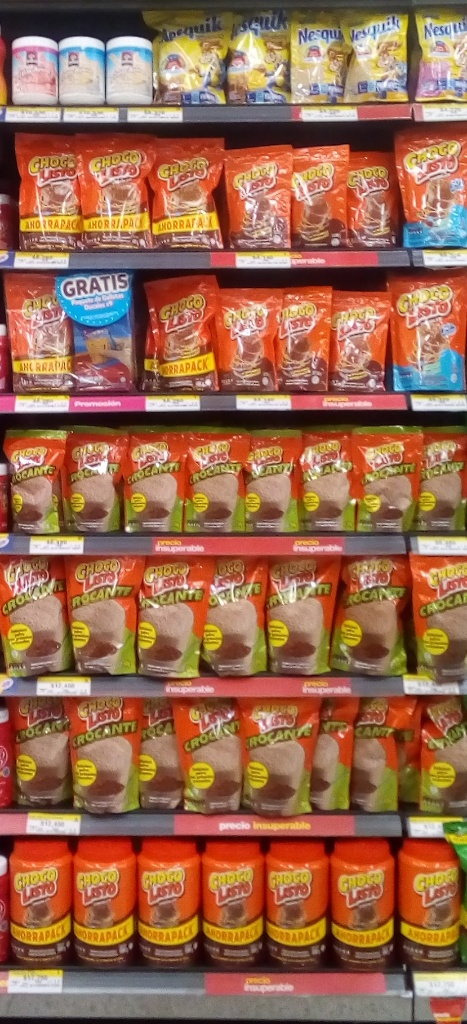COL0170102DYP25000: (4, 426, 67, 533)
COL0170102DYP50000: (0, 554, 81, 677)
COL0170103DYP20000: (219, 146, 291, 250)
COL0170103DYP40000: (14, 125, 79, 248)
COL0170103TRR00100: (14, 840, 74, 965)
COL0170305DYP20000: (416, 5, 466, 103)
COL0170306DYP20000: (289, 9, 356, 107)
